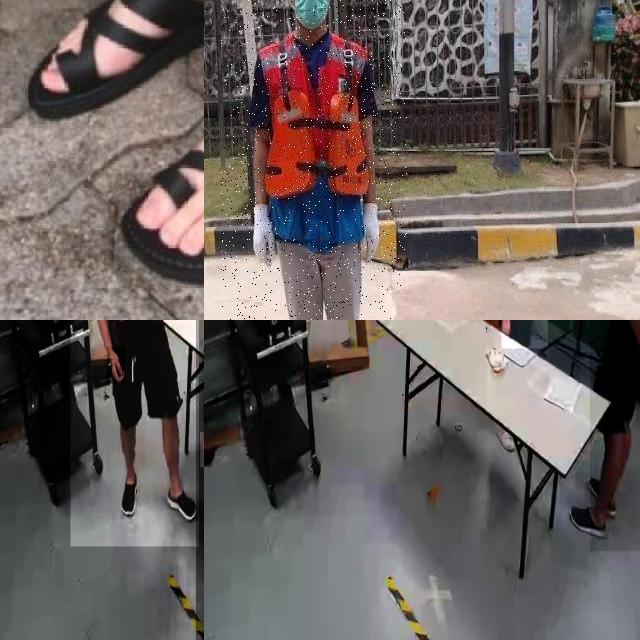Sandals: (112, 0, 204, 291), (12, 0, 204, 126)
hand_noglove: (107, 346, 126, 384), (499, 320, 511, 335), (200, 431, 204, 468)
person: (221, 0, 407, 320), (70, 320, 199, 547), (590, 320, 640, 552)
shoes: (568, 501, 608, 545), (586, 474, 626, 516), (163, 482, 197, 524), (117, 463, 141, 517)
vest: (259, 30, 368, 248)
